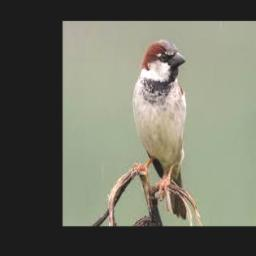Sparrow: (132, 39, 188, 219)
